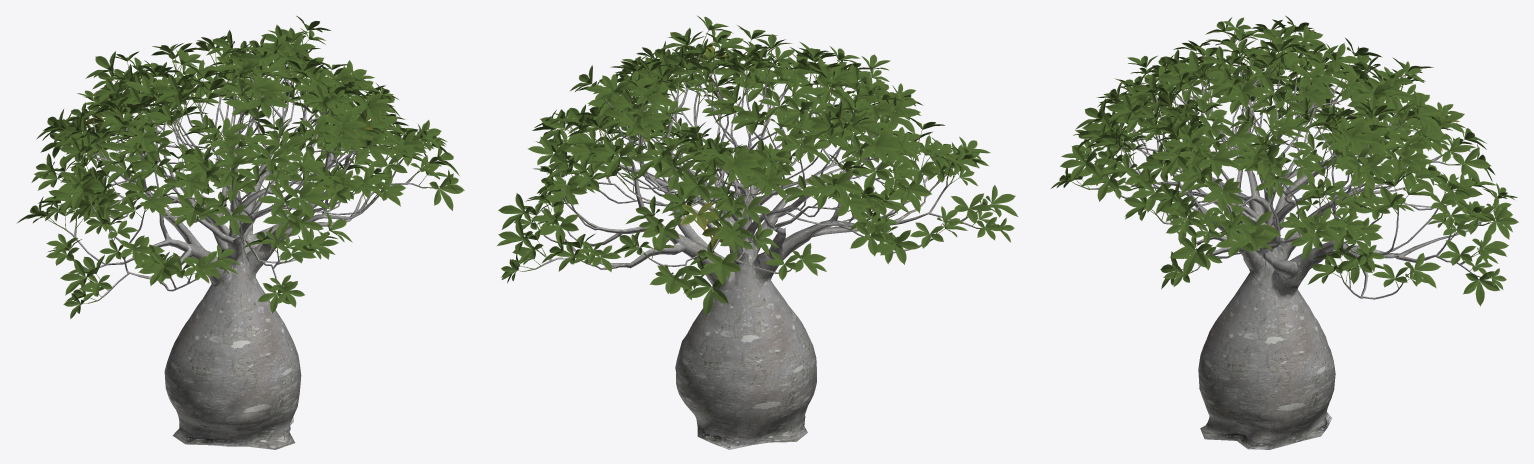
The picture shows the model from 3 angles, left to right: view 1: azimuth 30°, elevation 25°; view 2: azimuth 150°, elevation 25°; view 3: azimuth 270°, elevation 25°; orthographic projection.
Visible parts, largest first — view 1: Adansonia_digitata_HD; view 2: Adansonia_digitata_HD; view 3: Adansonia_digitata_HD.
Part boxes in pixels (bbox=[...]): Adansonia_digitata_HD: bbox=[16, 16, 464, 449]; Adansonia_digitata_HD: bbox=[497, 16, 1018, 449]; Adansonia_digitata_HD: bbox=[1051, 15, 1518, 449].
Size of the model in its own units: 7 by 6 by 6.84.
7 materials, 7 textured.
